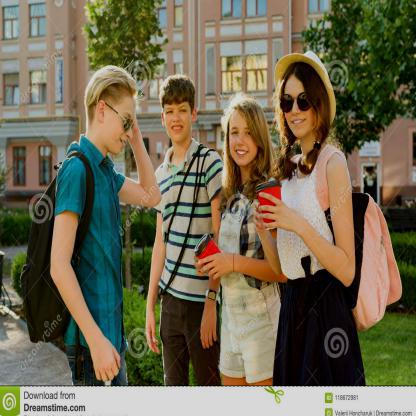person: (268, 51, 368, 386), (53, 66, 142, 386), (147, 72, 225, 386), (214, 95, 278, 386)
